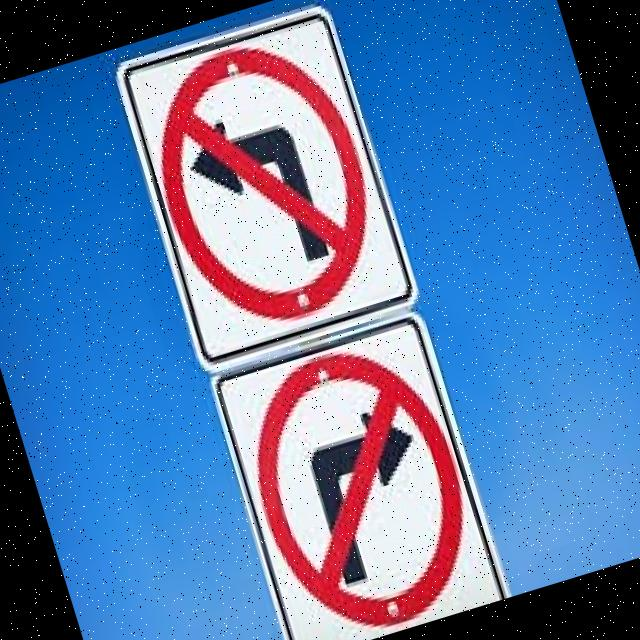do_not_turn_right: (128, 15, 402, 346)
